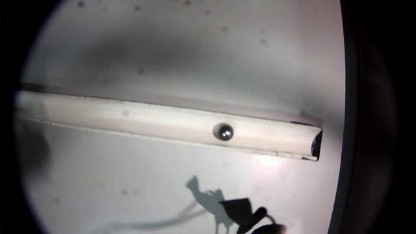gangzhu: (214, 122, 234, 140)
